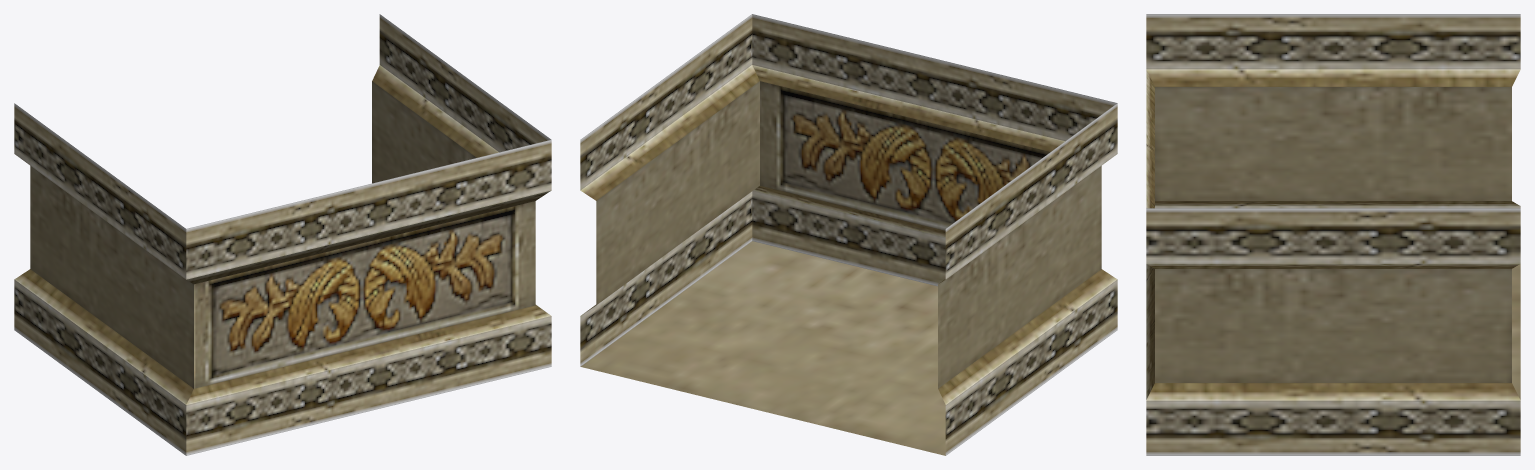
The model's file is Beam01_Build_LostTemple_002.FBX.
The picture shows the model from 3 angles, left to right: view 1: azimuth 30°, elevation 25°; view 2: azimuth 150°, elevation 25°; view 3: azimuth 270°, elevation 25°; orthographic projection. The views are drawn at different scales.
Parts seen in each view (by area): view 1: Beam01_Build_LostTemple_002; view 2: Beam01_Build_LostTemple_002; view 3: Beam01_Build_LostTemple_002.
Part boxes in pixels (bbox=[...]): Beam01_Build_LostTemple_002: bbox=[14, 14, 551, 455]; Beam01_Build_LostTemple_002: bbox=[580, 14, 1117, 455]; Beam01_Build_LostTemple_002: bbox=[1146, 14, 1520, 455].
Size of the model in its own units: 239 by 142 by 194.
